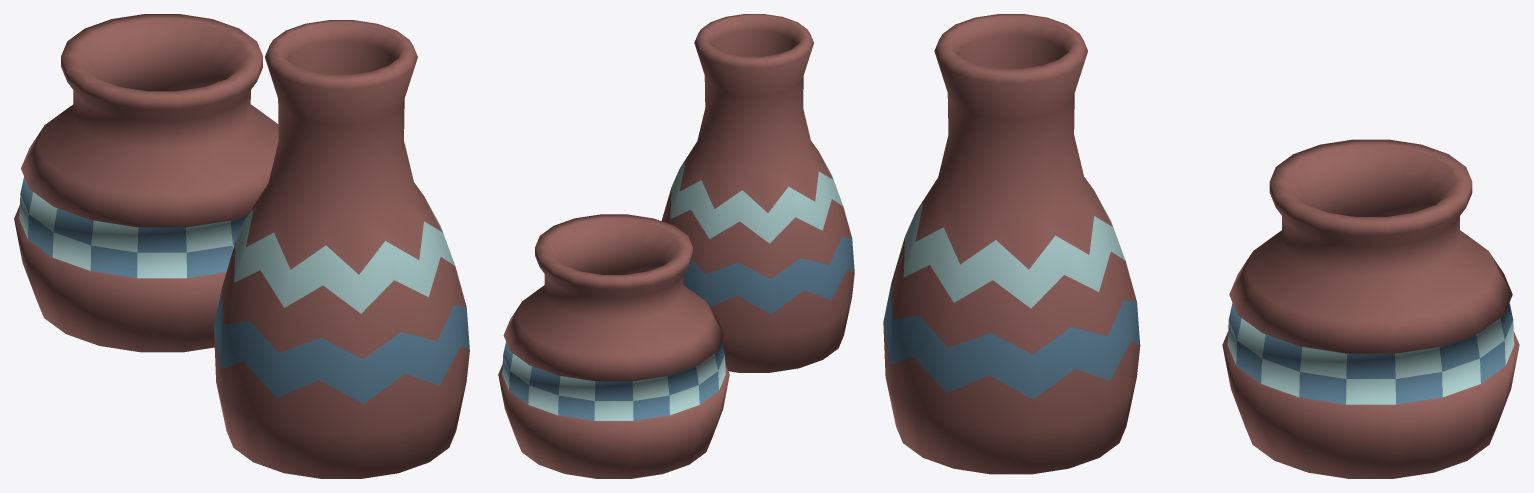
The model's file is StuffToDestroy_Pack.fbx.
3 renders of one model, left to right at view 1: azimuth 30°, elevation 25°; view 2: azimuth 150°, elevation 25°; view 3: azimuth 270°, elevation 25°, orthographic. The views are drawn at different scales.
Visible parts, largest first — view 1: Topf_2, Topf_1; view 2: Topf_1, Topf_2; view 3: Topf_2, Topf_1.
Part boxes in pixels (x1=…): Topf_2: x1=214, y1=20, x2=469, y2=478; Topf_1: x1=14, y1=14, x2=278, y2=352; Topf_1: x1=498, y1=214, x2=729, y2=478; Topf_2: x1=661, y1=14, x2=854, y2=372; Topf_2: x1=883, y1=14, x2=1140, y2=474; Topf_1: x1=1222, y1=139, x2=1519, y2=478.
Bounding box in the file's own units: 531 × 362 × 244.
